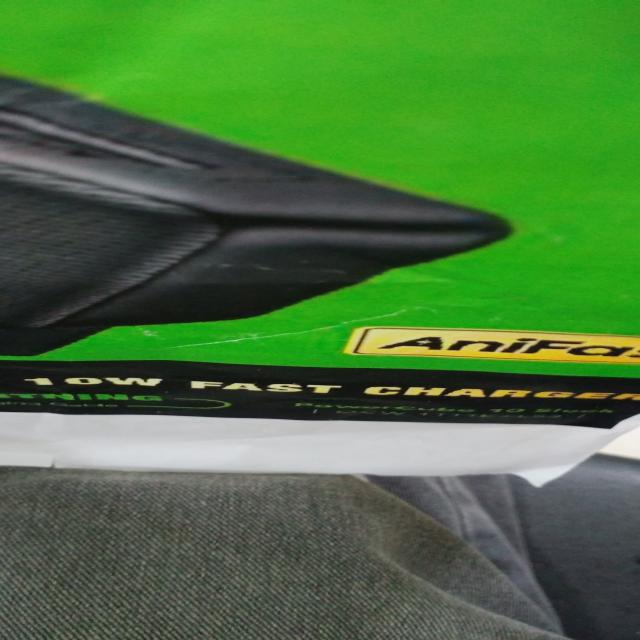PowerCube 10 Sleek OCW-1111ExL53: (282, 399, 626, 424)
